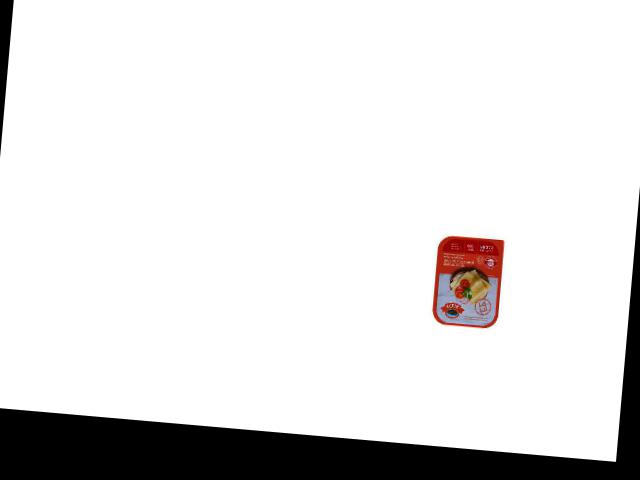cheese: (426, 228, 506, 331)
